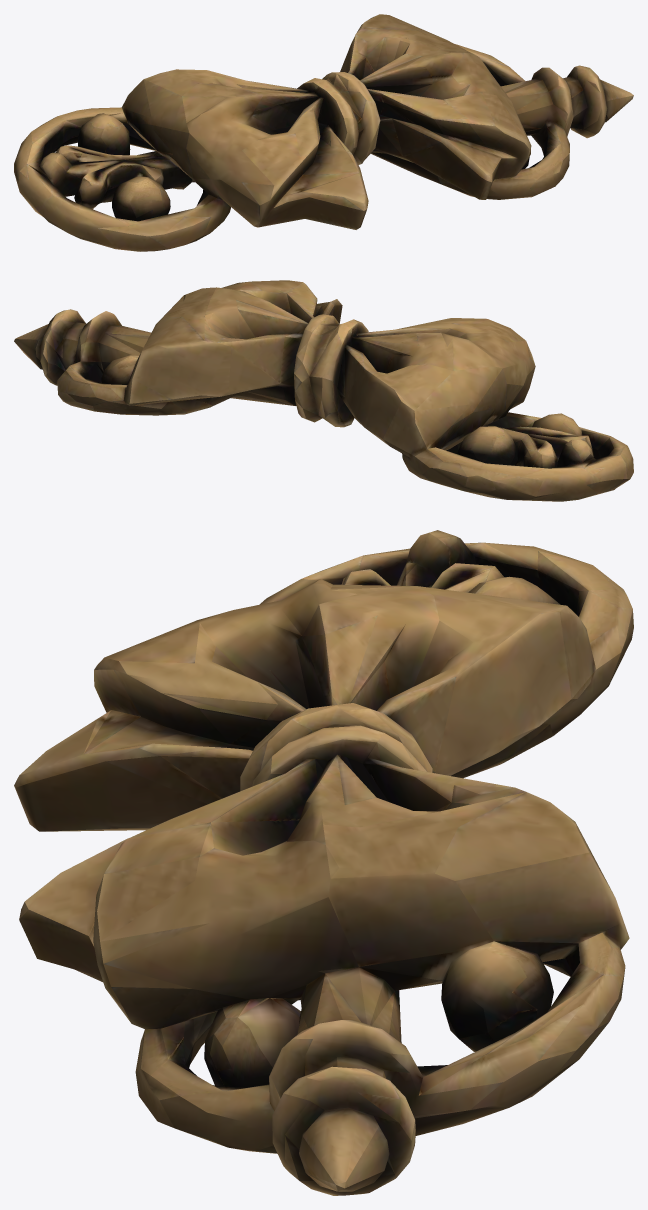
3 views of the same model, one above another, from view 1: azimuth 30°, elevation 25°; view 2: azimuth 150°, elevation 25°; view 3: azimuth 270°, elevation 25° (orthographic). The views are drawn at different scales.
Bounding box in the file's own units: 1 × 0.2156 × 0.4591.
1 material, 1 textured.
